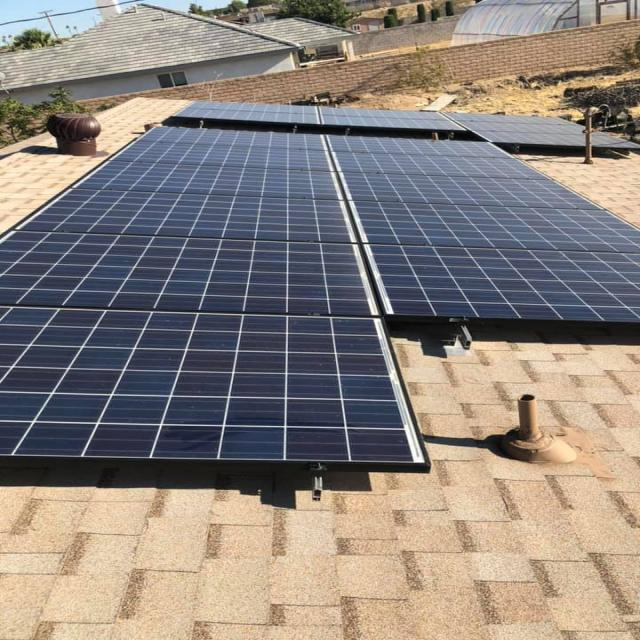clean-solar-panel: (3, 129, 638, 468)
